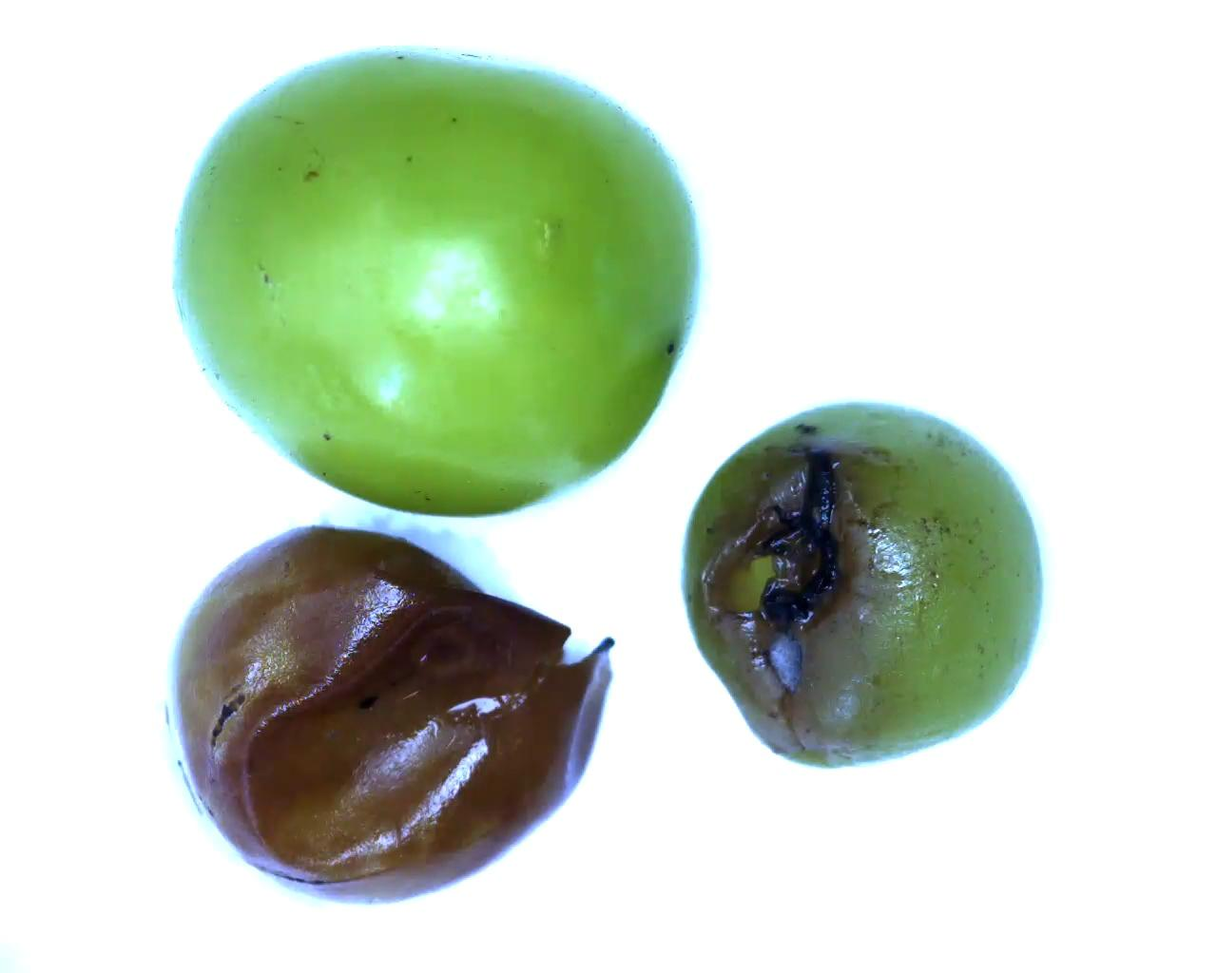Grape Rotten: (163, 521, 617, 905), (681, 397, 1048, 770)
Grape Unripe: (174, 48, 694, 475)
